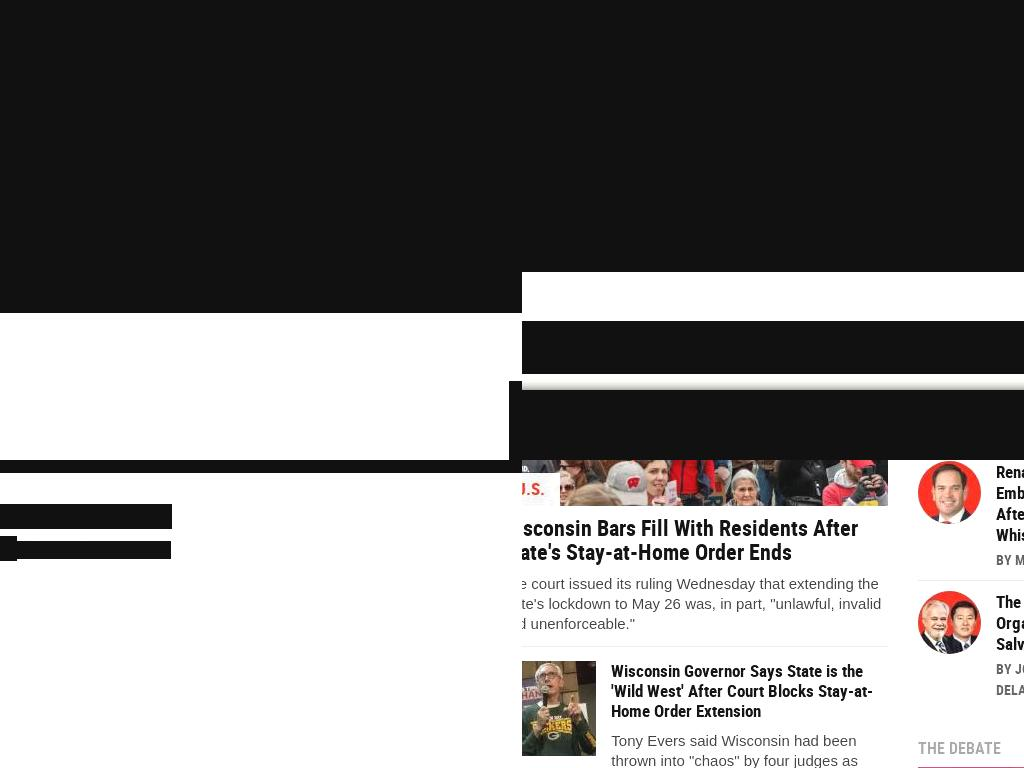button: (522, 0, 1024, 272), (522, 405, 1024, 455), (522, 660, 597, 756), (917, 461, 981, 524), (917, 591, 981, 654)
heading: (522, 153, 1024, 206), (522, 515, 859, 564), (611, 660, 874, 721), (522, 215, 1024, 240)
image: (0, 0, 522, 313), (522, 0, 1024, 272), (522, 660, 597, 756), (917, 461, 981, 524), (917, 591, 981, 654)
link: (917, 460, 975, 768), (522, 405, 1024, 429), (995, 590, 1024, 655), (917, 737, 1001, 759), (99, 504, 172, 529), (522, 476, 546, 500)
text: (522, 321, 1024, 374), (522, 573, 888, 634), (522, 418, 1024, 460), (522, 730, 888, 768), (522, 429, 831, 455), (0, 460, 522, 473), (16, 541, 171, 559), (0, 504, 100, 529), (0, 536, 17, 561)
